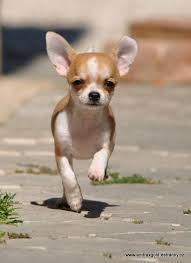chihuahua: (29, 20, 149, 222)
